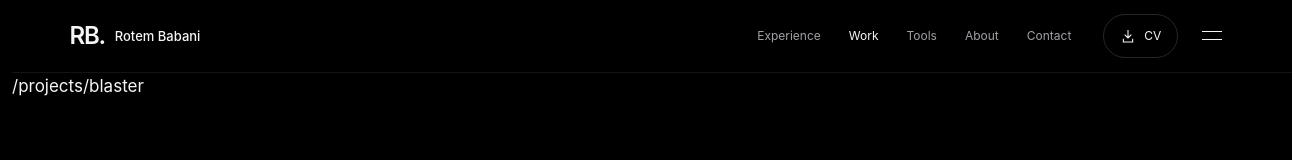
Test: homepage section navigation › returns from an interior page to tools through primary navigation
The image size is (1292, 160).
(page scrolled)
Click the link "Tools" at (922, 35), box [906,28,937,43]
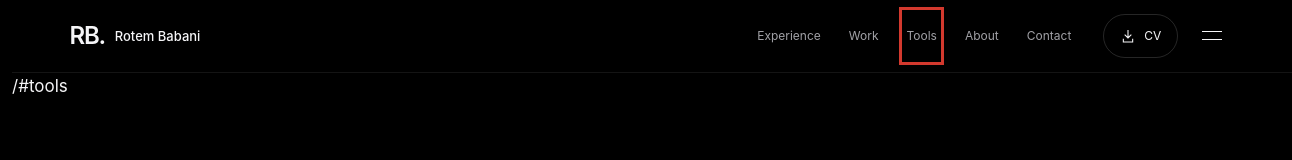
Result: the text with test id "location" reads "/#tools" at [12,76,68,96]
